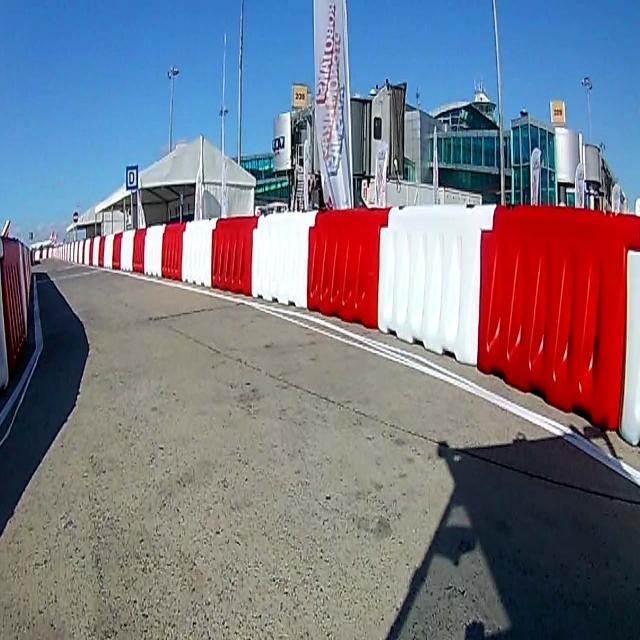durak: (125, 164, 139, 189)
